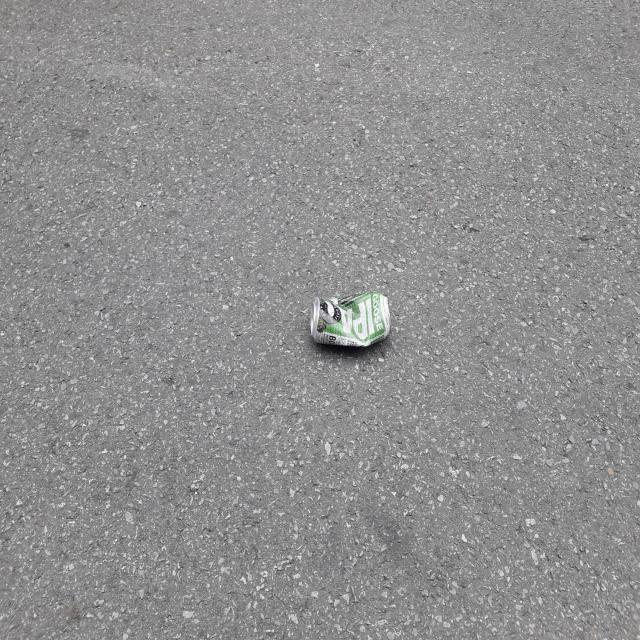can: (311, 292, 391, 347)
